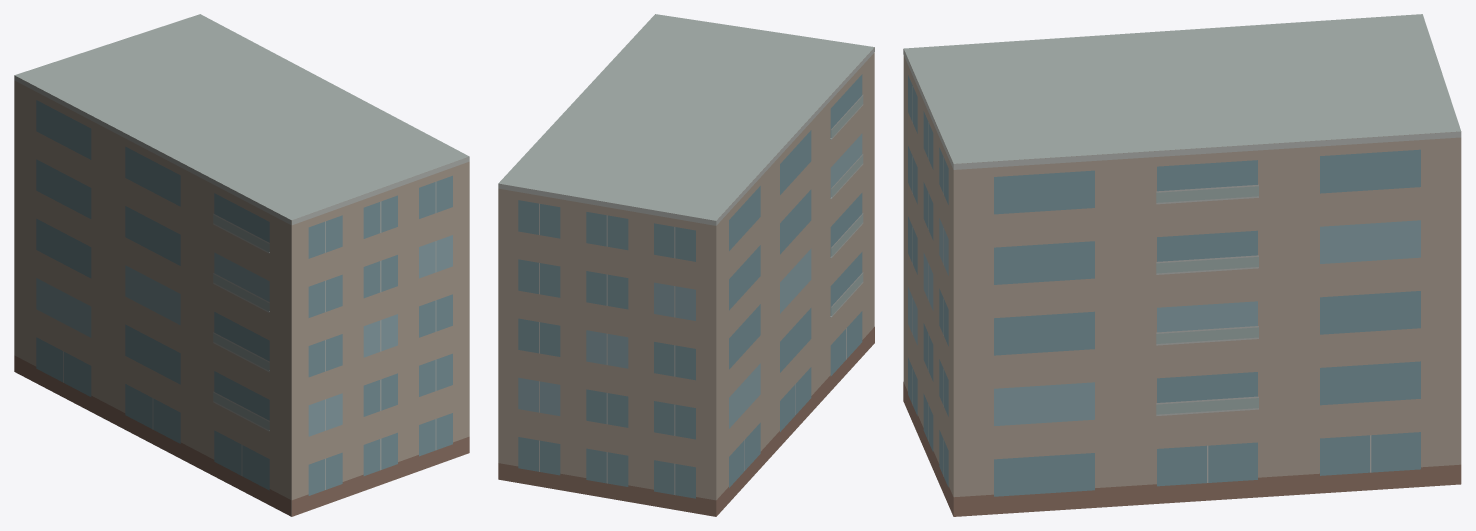
File: survey-upis-32575704.glb
3 views of the same model, side by side, from view 1: azimuth 30°, elevation 25°; view 2: azimuth 150°, elevation 25°; view 3: azimuth 270°, elevation 25° (orthographic). The views are drawn at different scales.
Parts seen in each view (by area): view 1: survey-upis-32575704.tmp; view 2: survey-upis-32575704.tmp; view 3: survey-upis-32575704.tmp.
Boxes of the visible parts, <box> form: survey-upis-32575704.tmp: <box>14,14,469,516</box>; survey-upis-32575704.tmp: <box>498,14,874,516</box>; survey-upis-32575704.tmp: <box>903,14,1461,516</box>.
Size of the model in its own units: 13.04 by 14.3 by 20.49.
